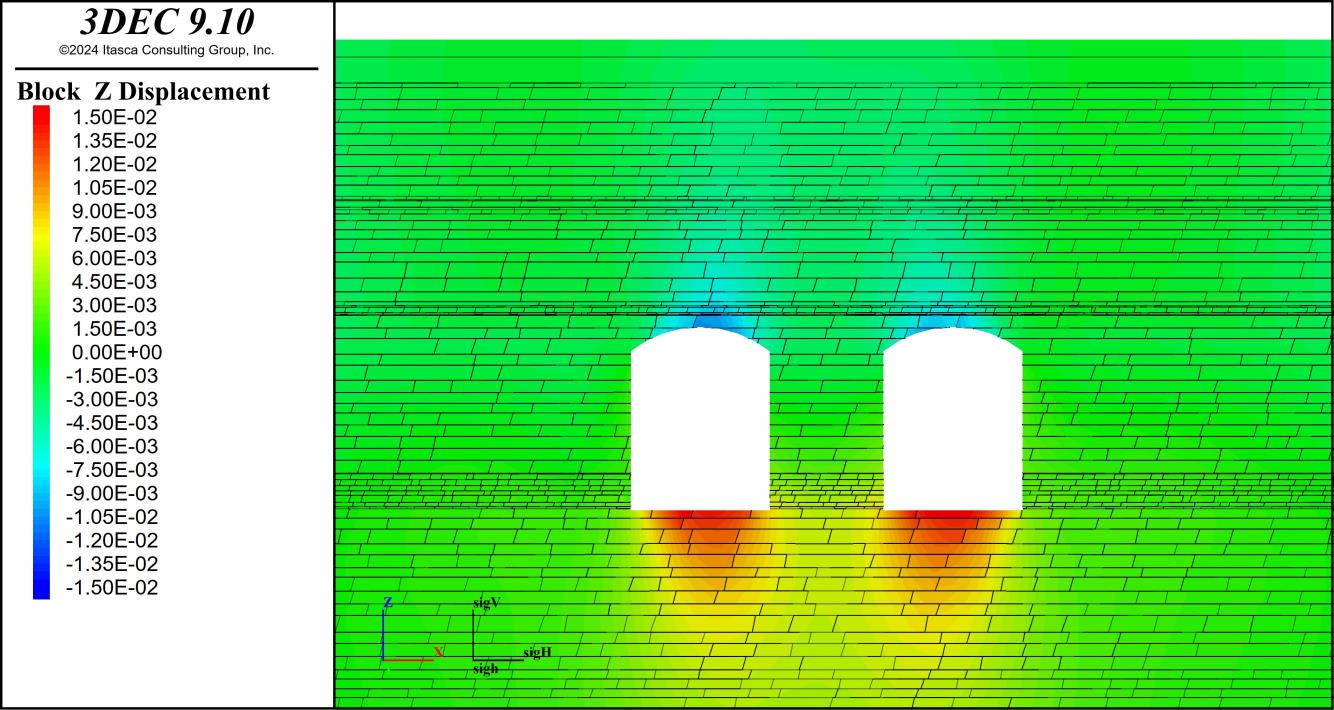crown: (933, 302, 970, 324), (681, 307, 715, 326)
label: (5, 5, 331, 704)
tunnel-opening: (630, 328, 770, 512), (881, 329, 1023, 510)
